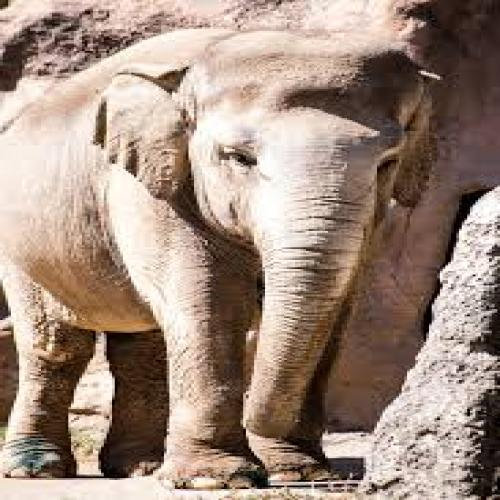asian_elephant-endangered: (0, 27, 432, 490)
